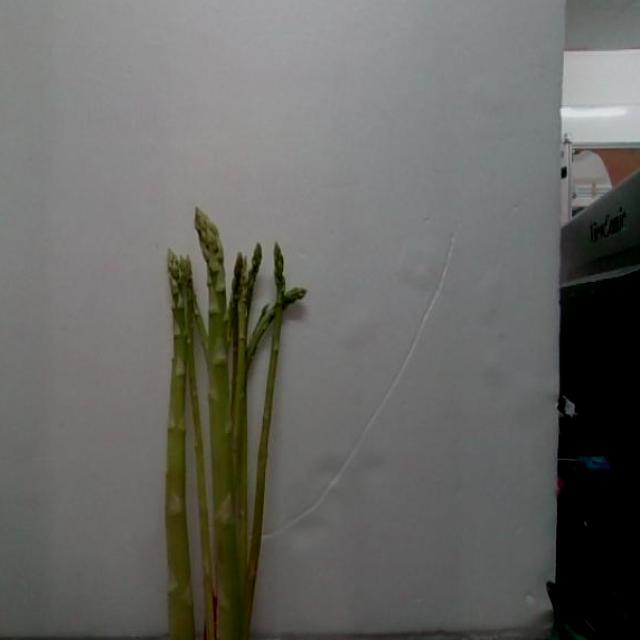aspargus: (194, 201, 251, 640)
